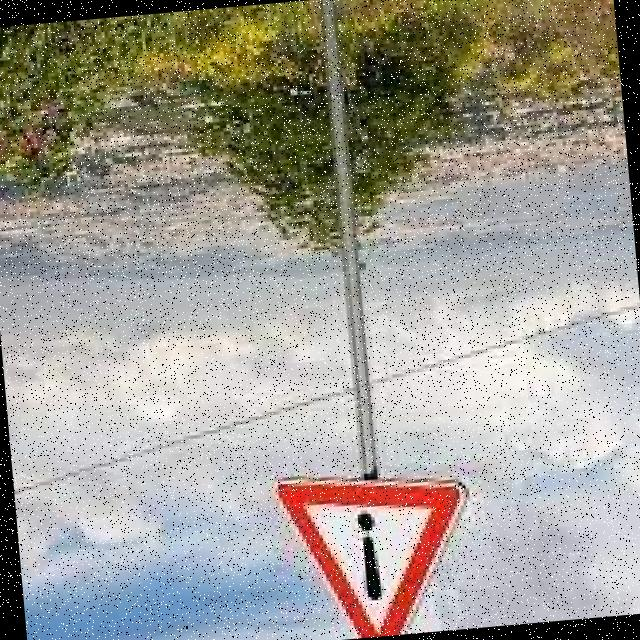warning: (263, 457, 487, 640)
